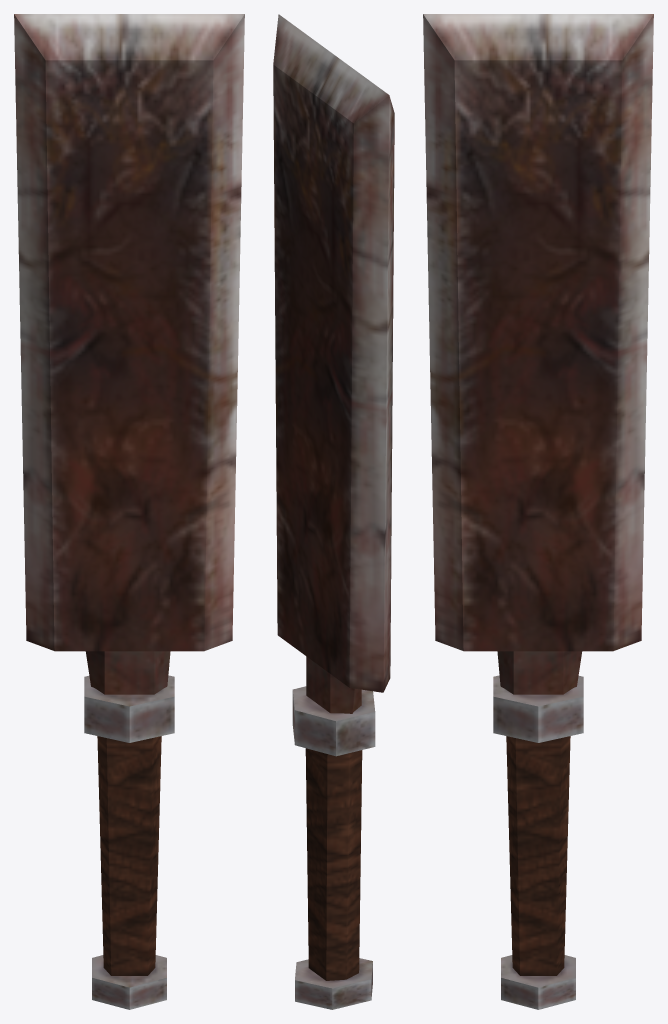
Rendered from sword.fbx.
3 renders of one model, left to right at view 1: azimuth 90°, elevation 25°; view 2: azimuth 210°, elevation 25°; view 3: azimuth 270°, elevation 25°, orthographic. The views are drawn at different scales.
Parts seen in each view (by area): view 1: ken; view 2: ken; view 3: ken.
Boxes of the visible parts, x1,y1,x2,y2 form: ken: (14,14,244,1009); ken: (273,14,394,1009); ken: (423,14,653,1009).
Bounding box in the file's own units: 8.15 × 93.35 × 20.01.
1 material, 1 textured.
